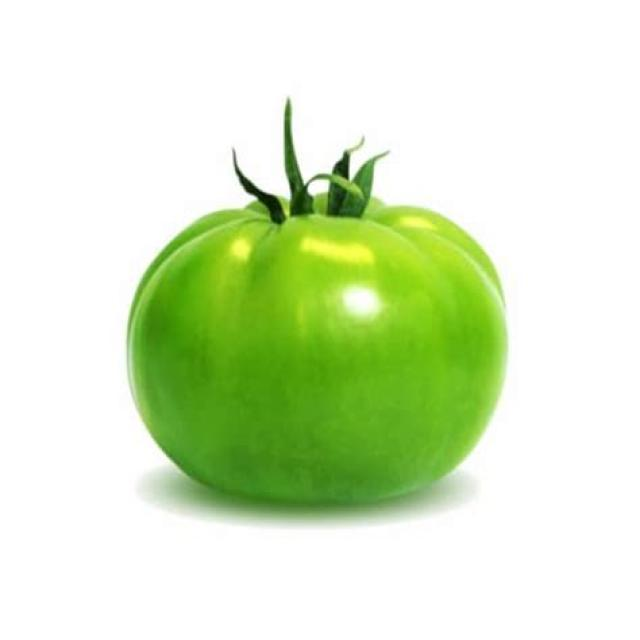Tomato: (126, 109, 512, 513)
